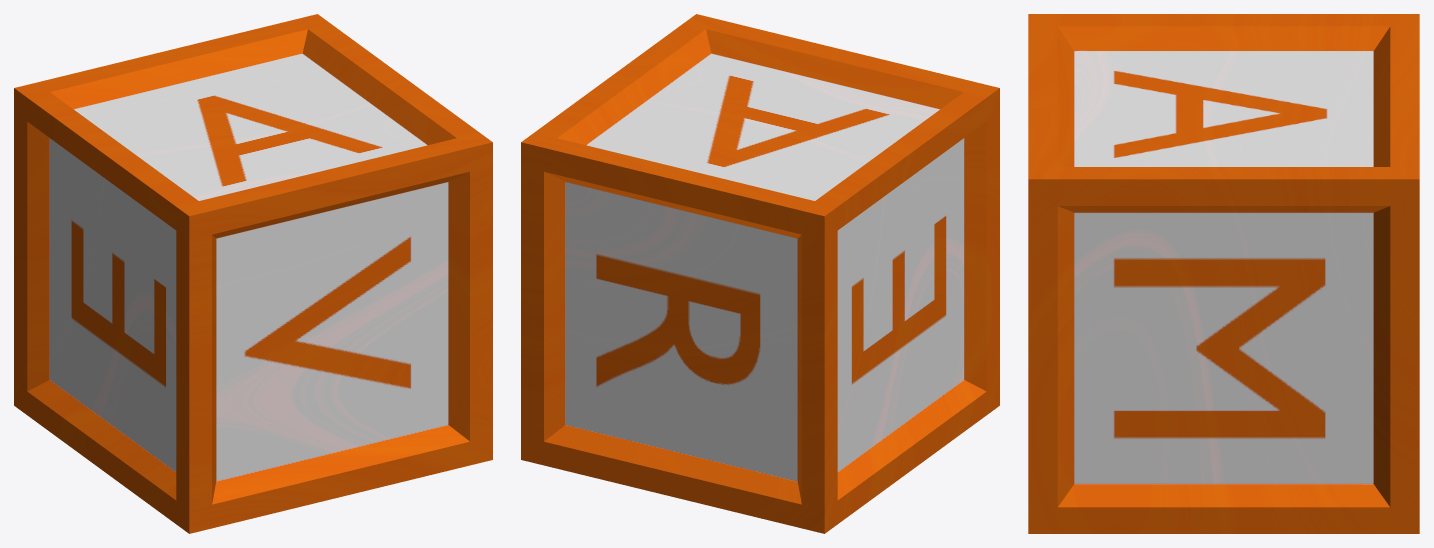
File: LetterBlocks.fbx
3 renders of one model, left to right at view 1: azimuth 30°, elevation 25°; view 2: azimuth 150°, elevation 25°; view 3: azimuth 270°, elevation 25°, orthographic. The views are drawn at different scales.
Parts seen in each view (by area): view 1: LetterBlock_AEIMRV_bAKE; view 2: LetterBlock_AEIMRV_bAKE; view 3: LetterBlock_AEIMRV_bAKE.
Part boxes in pixels (x1,y1,x2,y2): LetterBlock_AEIMRV_bAKE: [14, 14, 492, 533]; LetterBlock_AEIMRV_bAKE: [521, 14, 999, 533]; LetterBlock_AEIMRV_bAKE: [1028, 14, 1419, 533].
Size of the model in its own units: 7.73 by 7.73 by 7.73.
